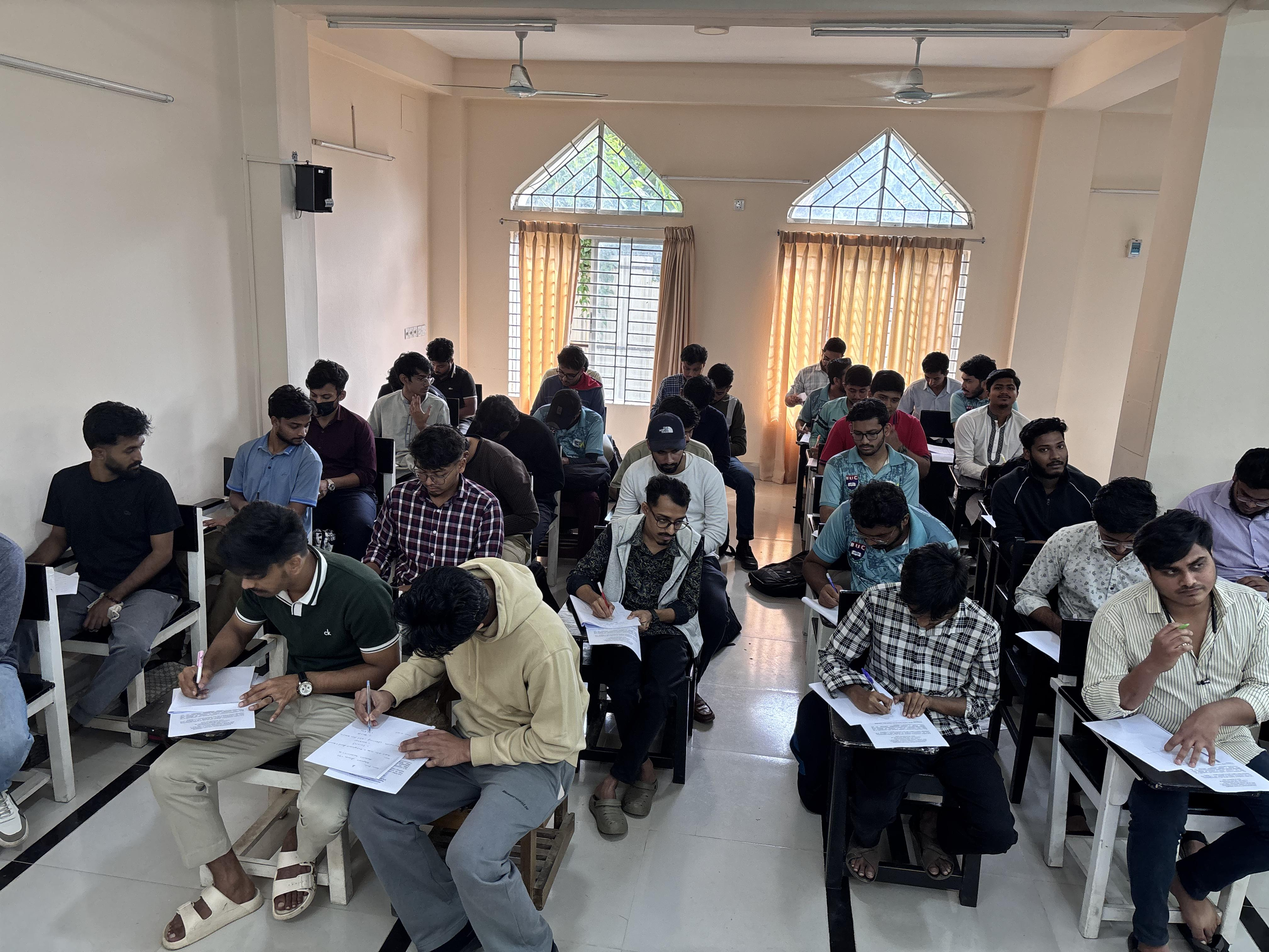copying: (45, 400, 179, 679), (236, 384, 321, 509), (388, 348, 433, 430), (956, 355, 991, 425)
no_cheating: (355, 535, 554, 821), (1108, 533, 1269, 841), (173, 498, 363, 736), (826, 534, 991, 781), (575, 477, 703, 685), (1058, 480, 1156, 593), (811, 477, 919, 568), (388, 429, 477, 533), (1202, 448, 1269, 574), (1009, 412, 1087, 519), (836, 402, 916, 479), (975, 368, 1030, 461), (534, 385, 597, 462), (631, 415, 707, 470), (302, 363, 354, 430), (429, 333, 472, 396), (914, 352, 956, 409), (868, 366, 911, 418), (675, 339, 715, 390), (812, 338, 850, 383), (550, 343, 590, 384)
